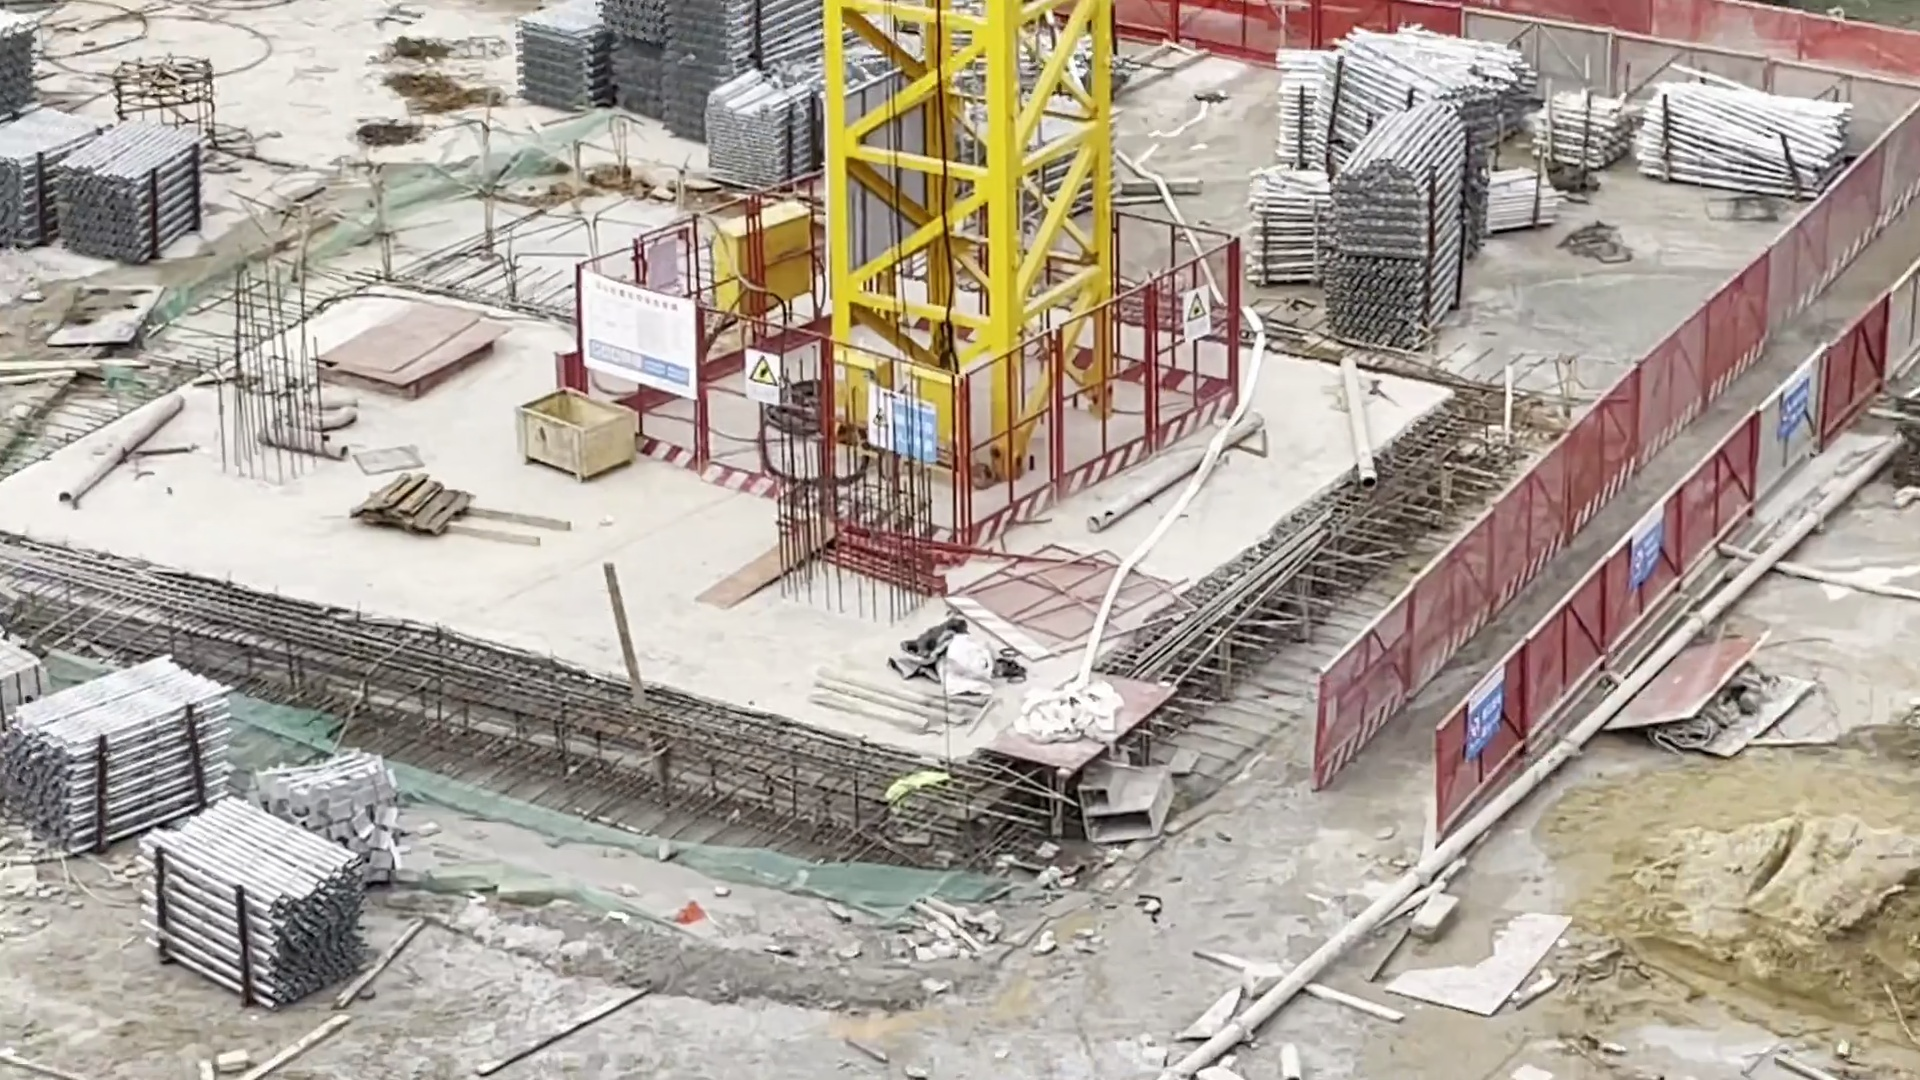ebox: (709, 200, 814, 306), (828, 347, 891, 440), (903, 367, 967, 458)
fence: (1317, 90, 1920, 825)
hopper: (516, 388, 637, 487)
scaffold: (1255, 26, 1850, 355), (21, 655, 375, 1005), (512, 1, 824, 190), (4, 22, 214, 264)
slogan: (582, 272, 698, 401), (1466, 669, 1505, 765), (1629, 508, 1665, 591), (742, 343, 781, 409), (1779, 368, 1812, 440), (1184, 291, 1211, 345)
